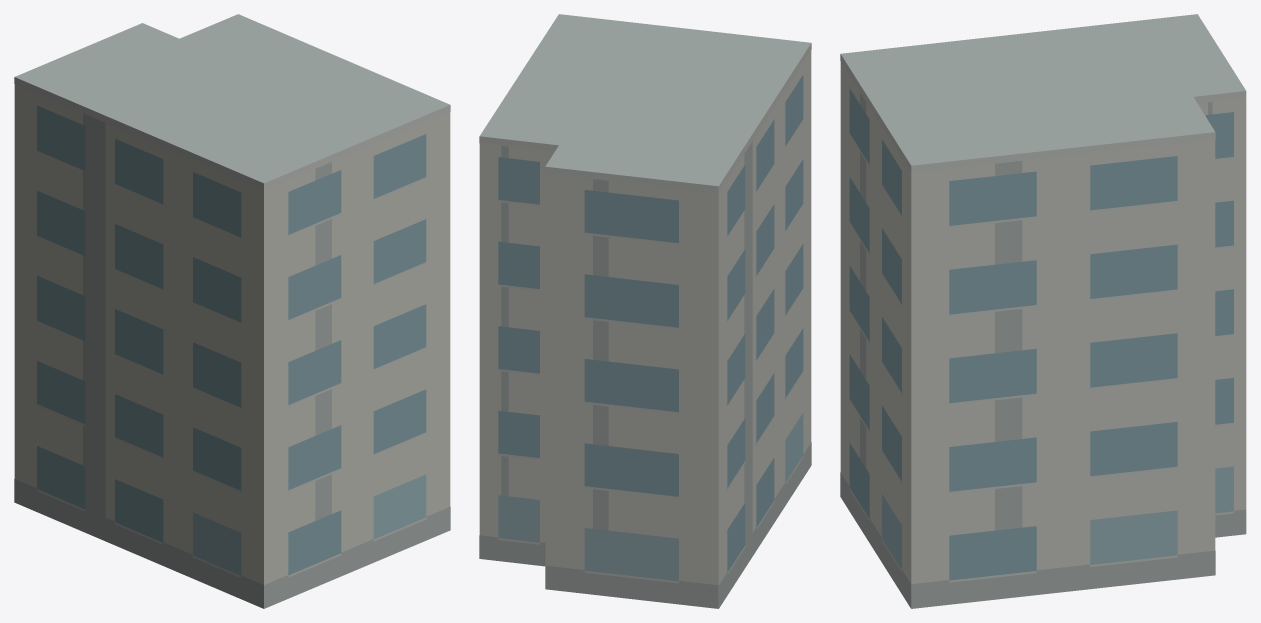
Rendered from survey-upis-33042254.glb.
3 renders of one model, left to right at view 1: azimuth 30°, elevation 25°; view 2: azimuth 150°, elevation 25°; view 3: azimuth 270°, elevation 25°, orthographic. The views are drawn at different scales.
Parts seen in each view (by area): view 1: survey-upis-33042254.tmp; view 2: survey-upis-33042254.tmp; view 3: survey-upis-33042254.tmp.
Boxes of the visible parts, x1,y1,x2,y2 form: survey-upis-33042254.tmp: [14, 14, 450, 608]; survey-upis-33042254.tmp: [479, 14, 811, 608]; survey-upis-33042254.tmp: [840, 14, 1246, 608].
Size of the model in its own units: 10.8 by 14.7 by 12.21.
